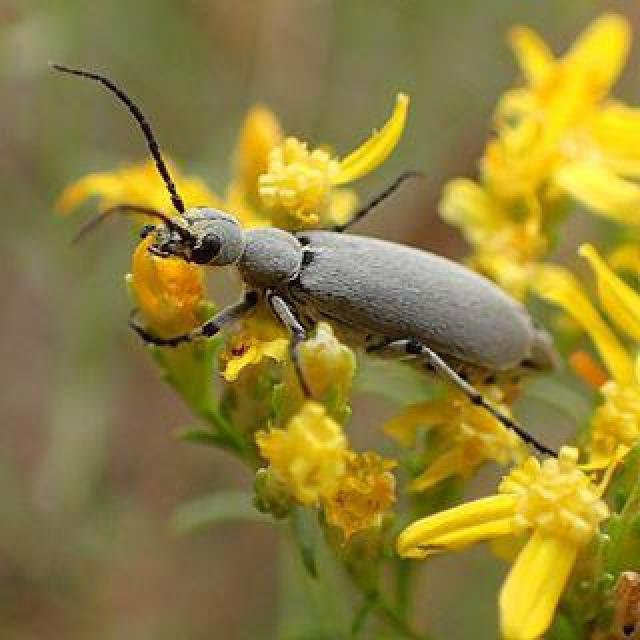BlisterBeetle-Adult-: (40, 51, 555, 438)
